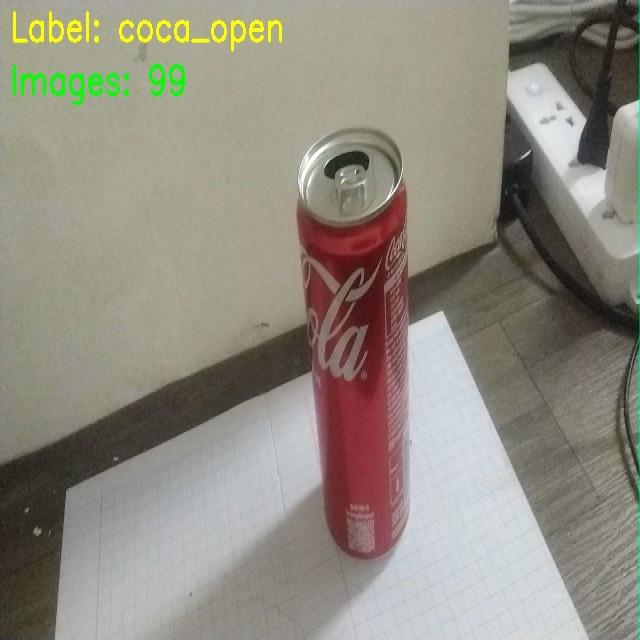Coca_open: (276, 115, 438, 568)
